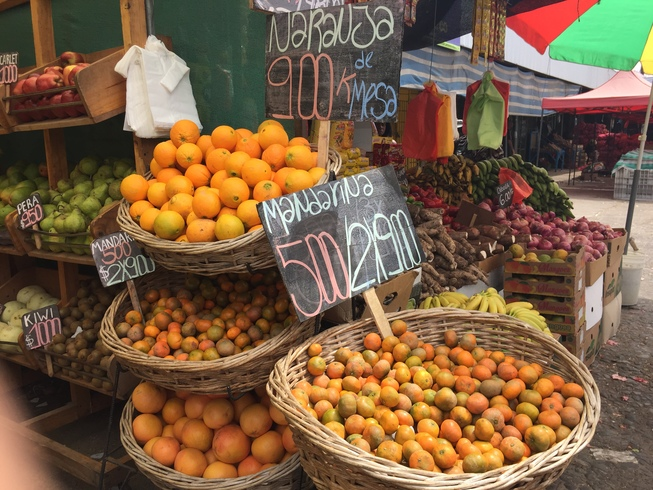precio: (256, 163, 445, 321), (269, 7, 412, 119), (83, 221, 172, 298), (17, 302, 67, 354), (11, 191, 50, 242), (494, 176, 520, 215)
